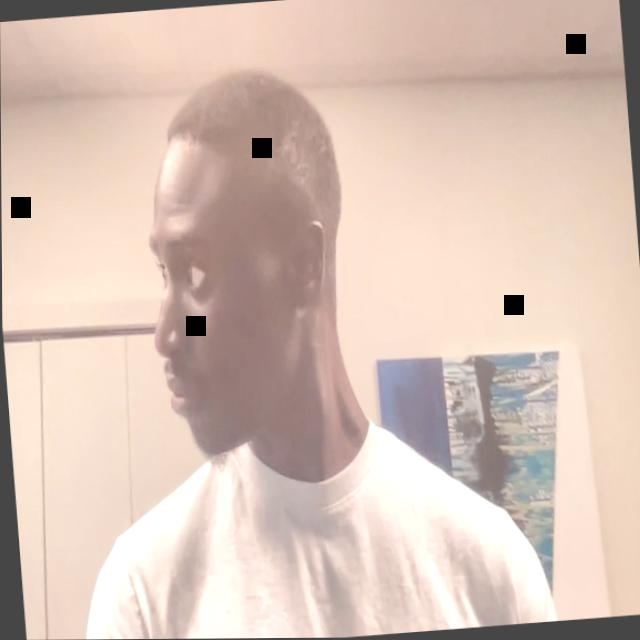NO-Mask: (138, 117, 354, 461)
